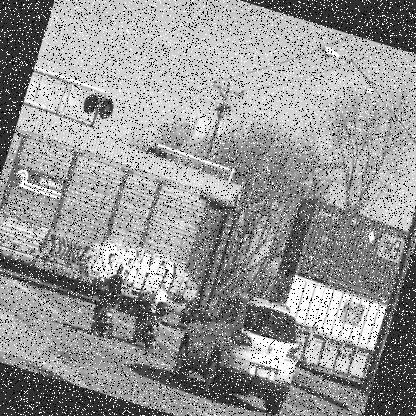Car: (167, 279, 312, 415)
